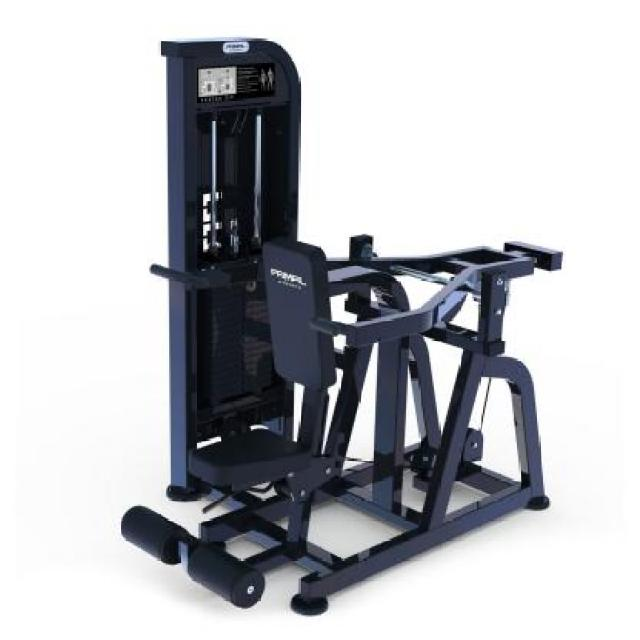seated dip machine: (122, 234, 563, 620)
